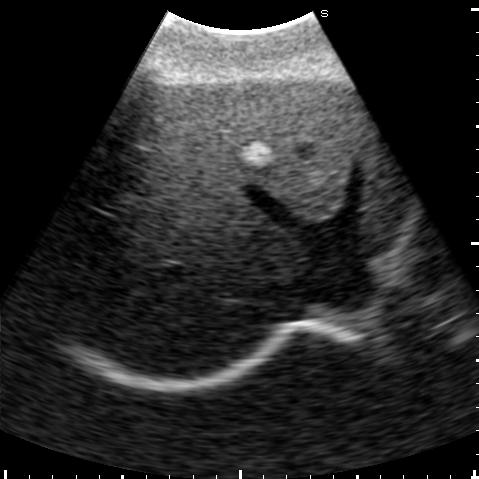S2: (358, 115, 406, 245)
S4: (149, 78, 362, 220)
S7: (71, 227, 276, 377)
S8: (104, 130, 307, 288)
Tumor: (241, 141, 272, 166)
